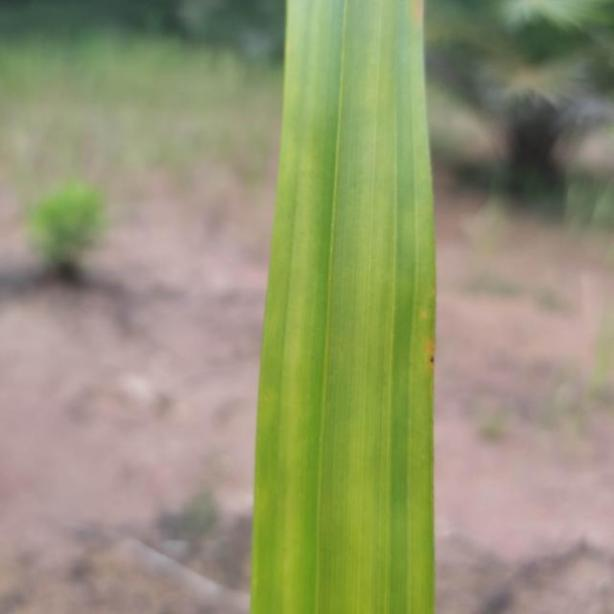nitrogen: (251, 0, 440, 614)
